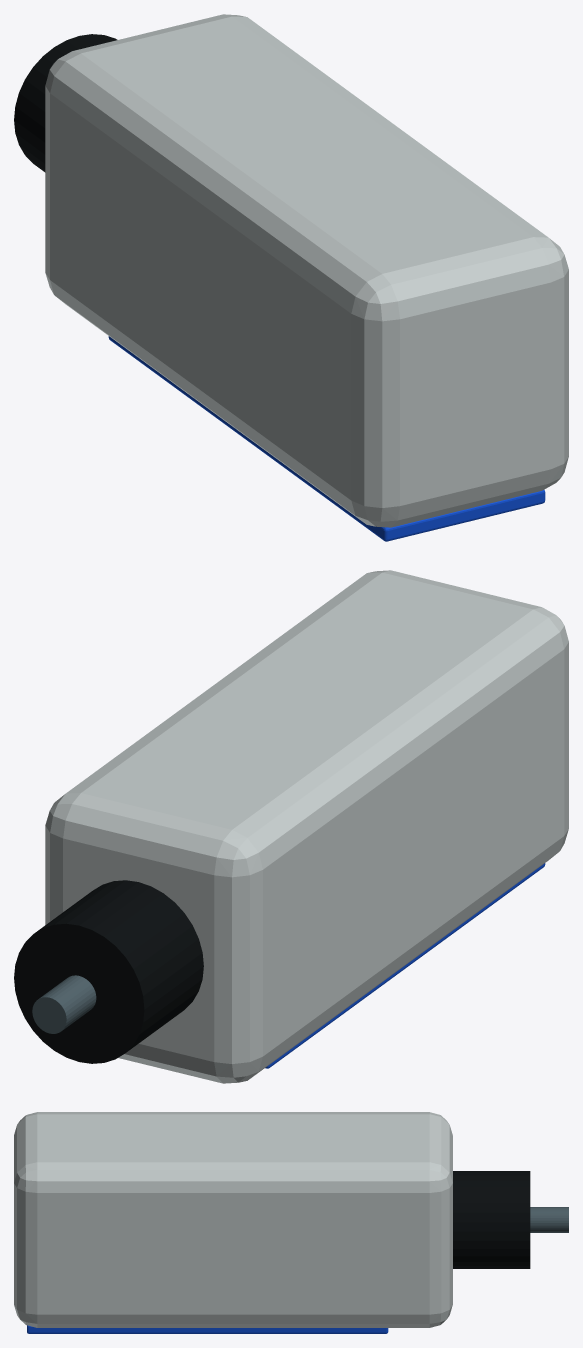
The model's file is pipette.obj.
3 renders of one model, top to bottom at view 1: azimuth 30°, elevation 25°; view 2: azimuth 150°, elevation 25°; view 3: azimuth 270°, elevation 25°, orthographic. The views are drawn at different scales.
Visible parts, largest first — view 1: flex__pipette__body, flex__pipette__collar, flex__pipette__face; view 2: flex__pipette__body, flex__pipette__collar, flex__pipette__nozzle, flex__pipette__face; view 3: flex__pipette__body, flex__pipette__collar, flex__pipette__face, flex__pipette__nozzle.
Part boxes in pixels (left/top/right/bottom): flex__pipette__body: left=45, top=14, right=568, bottom=527; flex__pipette__collar: left=14, top=34, right=117, bottom=172; flex__pipette__face: left=108, top=336, right=545, bottom=541; flex__pipette__body: left=45, top=570, right=568, bottom=1083; flex__pipette__collar: left=14, top=880, right=203, bottom=1063; flex__pipette__nozzle: left=32, top=975, right=96, bottom=1033; flex__pipette__face: left=265, top=863, right=545, bottom=1068; flex__pipette__body: left=14, top=1112, right=452, bottom=1327; flex__pipette__collar: left=453, top=1171, right=530, bottom=1268; flex__pipette__face: left=27, top=1325, right=388, bottom=1333; flex__pipette__nozzle: left=530, top=1207, right=568, bottom=1232.
Size of the model in its own units: 0.062 by 0.0741 by 0.215.
